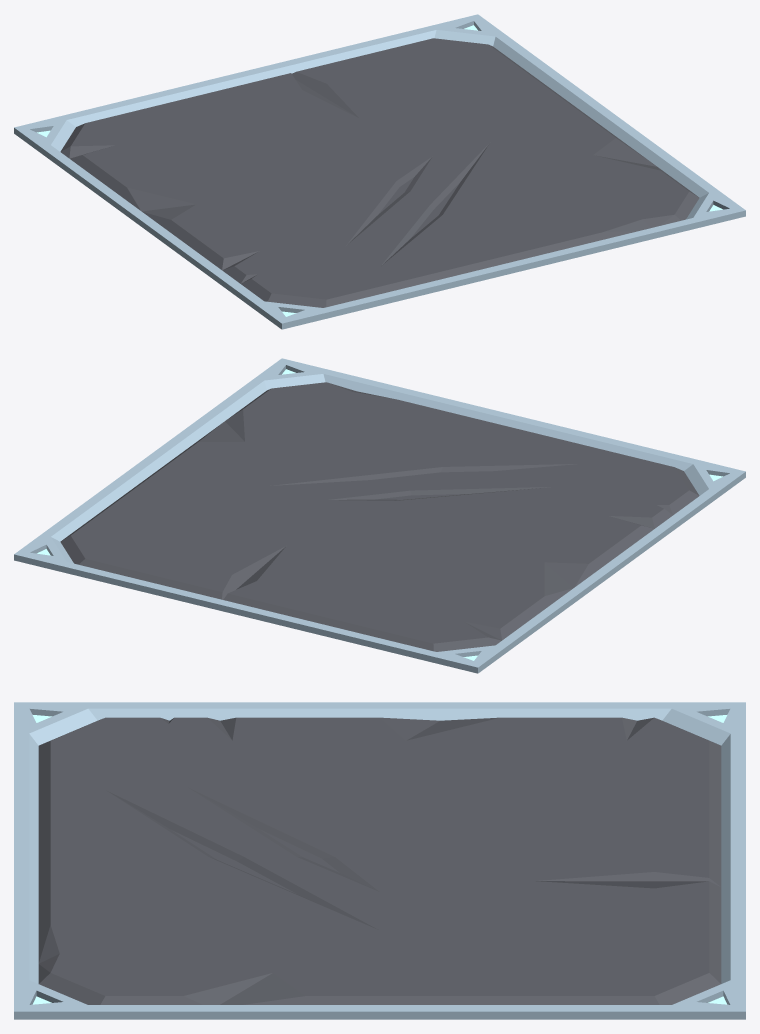
File: Floor_Small_Square.fbx
The picture shows the model from 3 angles, top to bottom: view 1: azimuth 30°, elevation 25°; view 2: azimuth 150°, elevation 25°; view 3: azimuth 270°, elevation 25°; orthographic projection. The views are drawn at different scales.
Visible parts, largest first — view 1: Floor_Small_Square; view 2: Floor_Small_Square; view 3: Floor_Small_Square.
Boxes of the visible parts, left/top/right/bottom form: Floor_Small_Square: left=14, top=14, right=745, bottom=329; Floor_Small_Square: left=14, top=358, right=745, bottom=673; Floor_Small_Square: left=14, top=702, right=745, bottom=1019.
Size of the model in its own units: 4 by 0.05 by 4.
